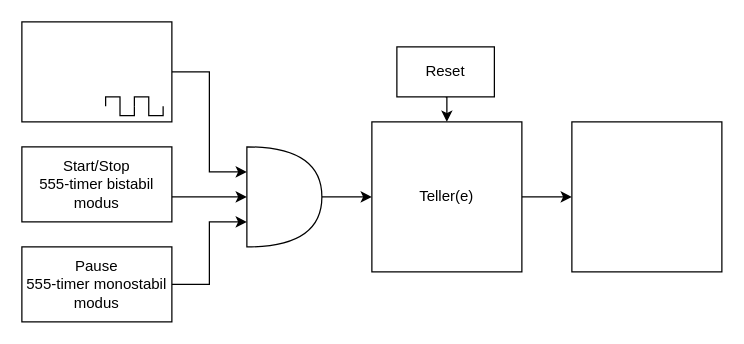
The diagram is 744 pixels wide and 344 high, and some of its shapes have lost their labels. The box of each missing label's shape, as (x1, y1, x2, y2) in pixels:
555-timer astabil modus: (21, 21, 172, 122)
Display: (571, 121, 722, 272)
